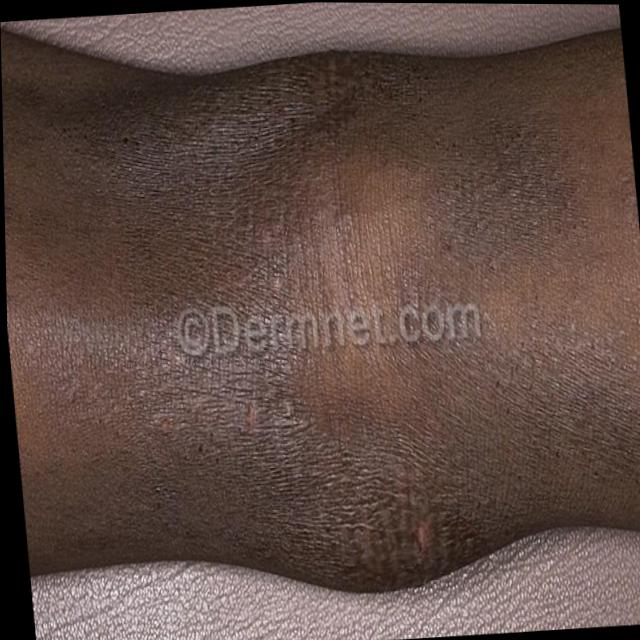liquenificacion 1: (0, 0, 640, 621)
liquenificacion 2: (0, 0, 640, 621)
